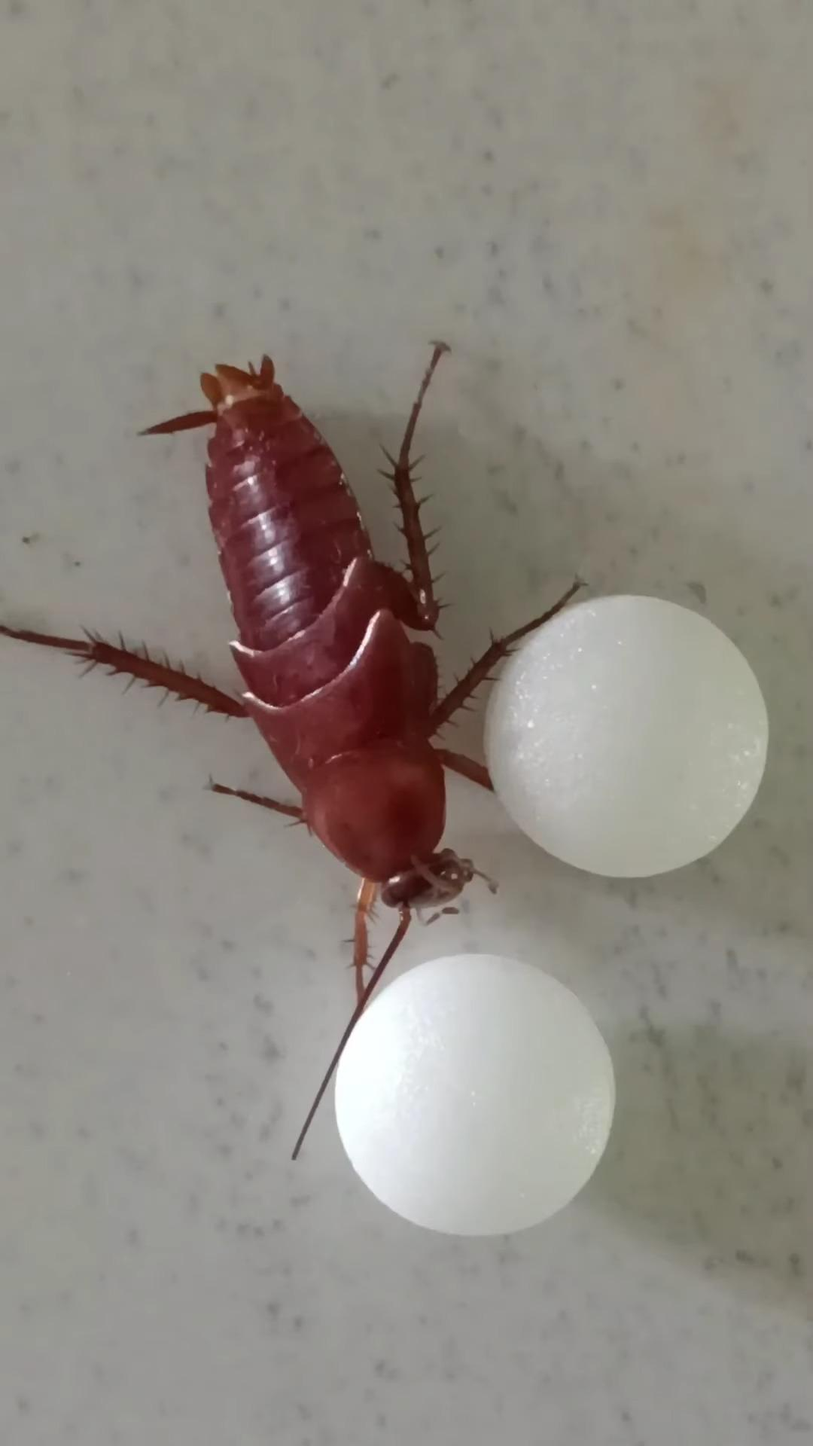cockroach: (0, 293, 484, 922)
